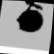not correct: (3, 0, 47, 36)
